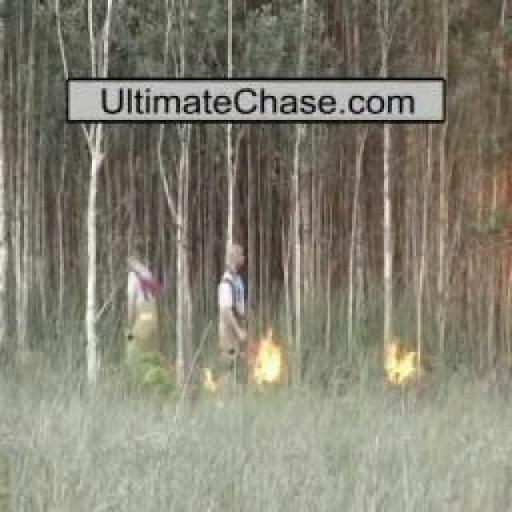smoke: (382, 335, 422, 386), (256, 328, 282, 390), (198, 364, 218, 398)
